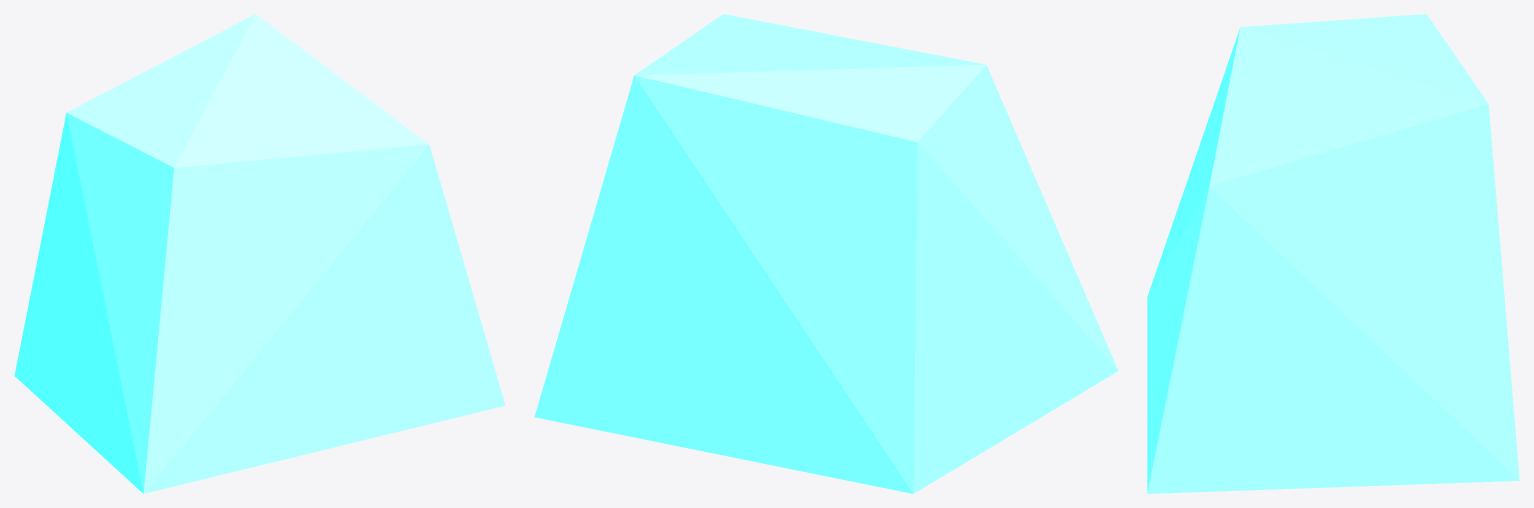
Rendered from Mesh_Voxel_01.glb.
3 renders of one model, left to right at view 1: azimuth 30°, elevation 25°; view 2: azimuth 150°, elevation 25°; view 3: azimuth 270°, elevation 25°, orthographic. The views are drawn at different scales.
Parts seen in each view (by area): view 1: Mesh_Voxel_01; view 2: Mesh_Voxel_01; view 3: Mesh_Voxel_01.
Boxes of the visible parts, <box> form: Mesh_Voxel_01: <box>14,14,505,493</box>; Mesh_Voxel_01: <box>534,14,1118,493</box>; Mesh_Voxel_01: <box>1147,14,1519,493</box>.
Bounding box in the file's own units: 0.15 × 0.12 × 0.12.
